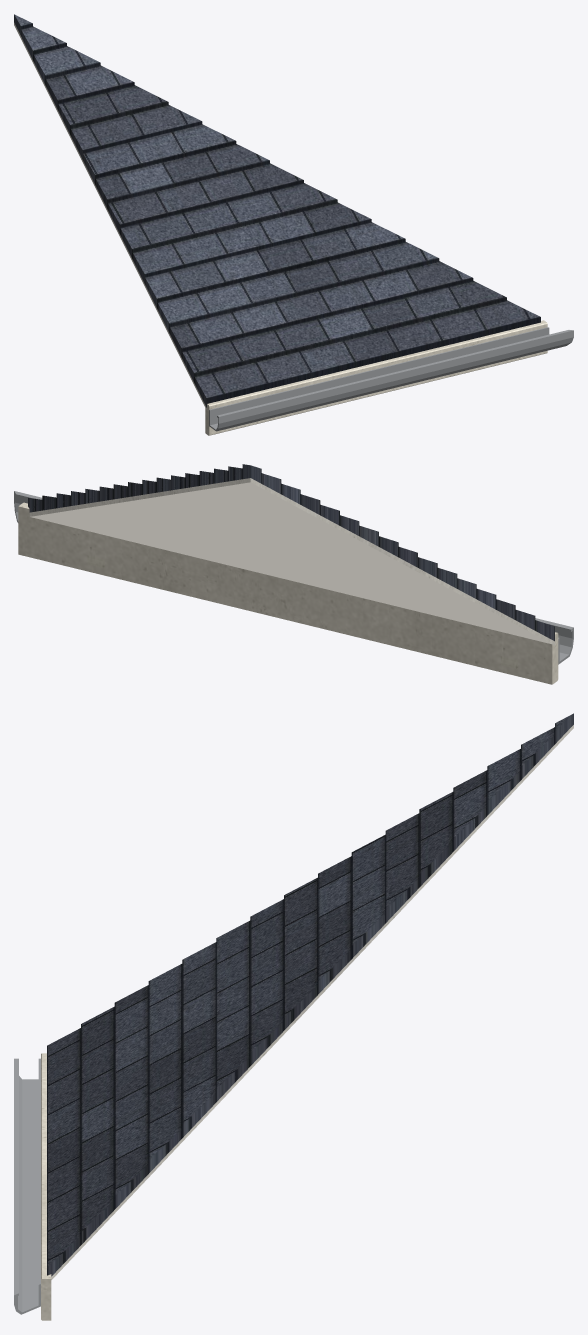
The model's file is roof_main_6.glb.
3 views of the same model, one above another, from view 1: azimuth 30°, elevation 25°; view 2: azimuth 150°, elevation 25°; view 3: azimuth 270°, elevation 25° (orthographic). The views are drawn at different scales.
Visible parts, largest first — view 1: roof_main_6_shingles, roof_main_6_gutter, roof_main_6_trim, roof_main_6_plaster; view 2: roof_main_6_plaster, roof_main_6_trim, roof_main_6_shingles, roof_main_6_gutter; view 3: roof_main_6_shingles, roof_main_6_gutter, roof_main_6_plaster, roof_main_6_trim.
Part boxes in pixels (x1=…): roof_main_6_shingles: x1=14, y1=14, x2=540, y2=407; roof_main_6_gutter: x1=209, y1=327, x2=573, y2=431; roof_main_6_trim: x1=205, y1=320, x2=547, y2=435; roof_main_6_plaster: x1=14, y1=22, x2=206, y2=410; roof_main_6_plaster: x1=29, y1=478, x2=554, y2=645; roof_main_6_trim: x1=18, y1=502, x2=558, y2=684; roof_main_6_shingles: x1=28, y1=464, x2=554, y2=641; roof_main_6_gutter: x1=14, y1=491, x2=573, y2=664; roof_main_6_shingles: x1=47, y1=713, x2=573, y2=1276; roof_main_6_gutter: x1=14, y1=1058, x2=40, y2=1314; roof_main_6_plaster: x1=51, y1=725, x2=573, y2=1279; roof_main_6_trim: x1=41, y1=1053, x2=51, y2=1320.
Bounding box in the file's own units: 2.71 × 2.04 × 2.71.
4 materials, 3 textured.
